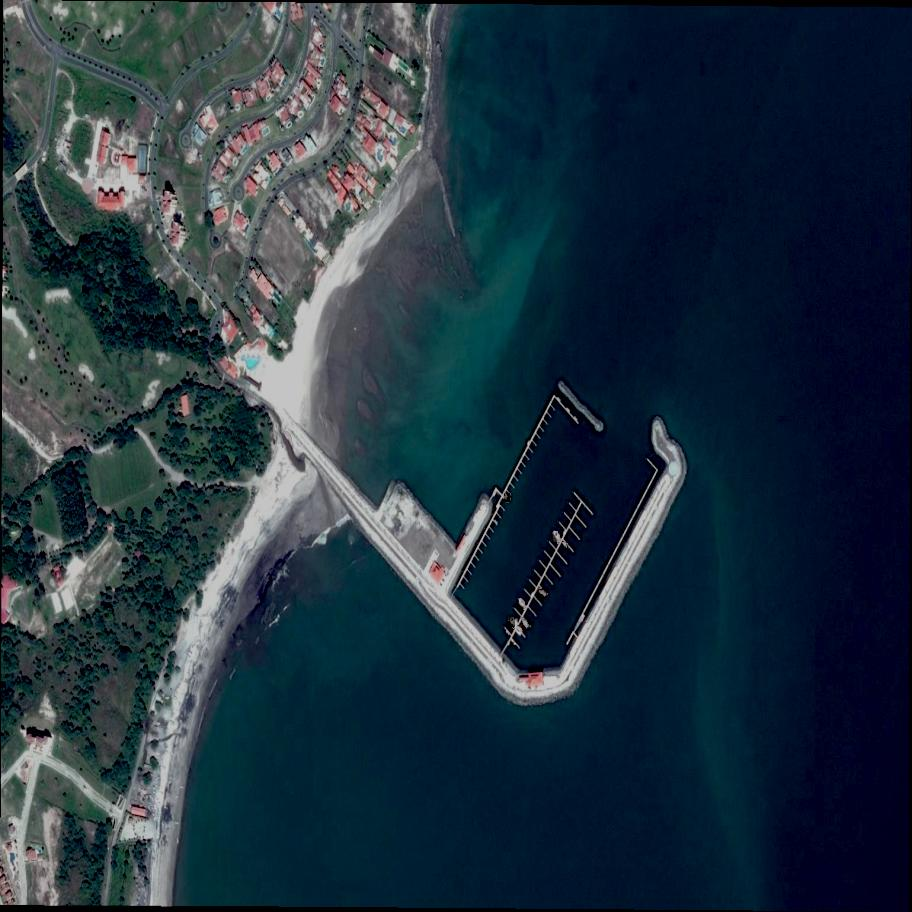ship: (521, 619, 531, 631), (536, 589, 548, 598), (552, 531, 561, 543), (517, 599, 526, 609), (508, 618, 516, 628), (562, 542, 570, 550), (504, 493, 511, 502), (512, 618, 519, 626), (518, 625, 523, 631)
